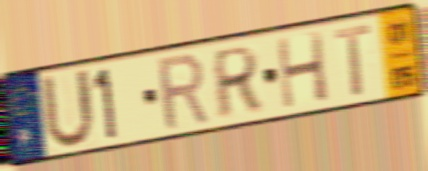1: (91, 66, 119, 143)
H: (274, 29, 332, 112)
R: (154, 49, 212, 134), (212, 42, 263, 123)
T: (332, 21, 374, 99)
U: (38, 66, 98, 153)
